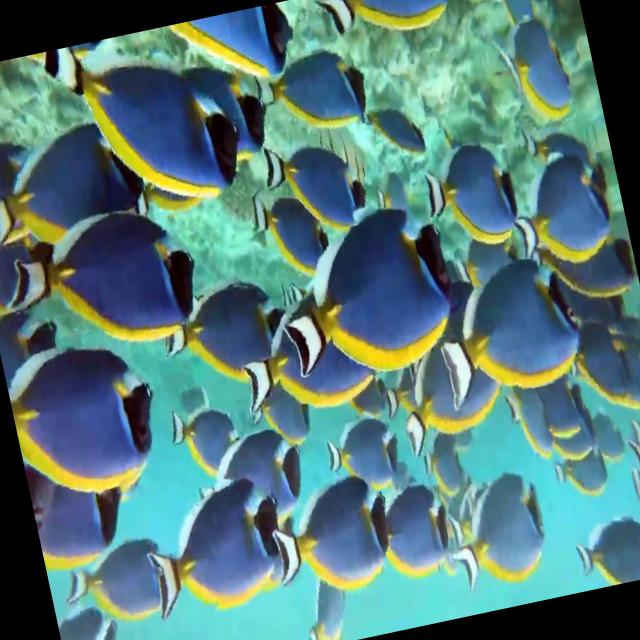fish: (41, 13, 265, 232), (262, 193, 470, 391), (0, 197, 206, 361), (424, 240, 590, 413), (2, 332, 165, 507), (226, 272, 382, 424), (136, 476, 297, 621), (382, 293, 509, 454), (266, 469, 402, 606), (500, 130, 621, 271), (154, 270, 287, 390), (20, 433, 132, 572), (443, 468, 552, 594), (514, 212, 640, 320), (253, 41, 377, 148), (166, 0, 300, 97), (200, 422, 316, 534), (420, 133, 524, 254), (261, 133, 374, 237), (62, 536, 179, 630), (364, 475, 460, 584), (489, 16, 578, 132), (562, 301, 640, 417), (250, 182, 336, 286), (315, 0, 458, 48), (324, 412, 406, 492), (168, 399, 246, 482), (502, 376, 561, 476), (248, 368, 318, 451), (358, 93, 436, 166), (572, 512, 640, 591), (549, 427, 614, 508)
